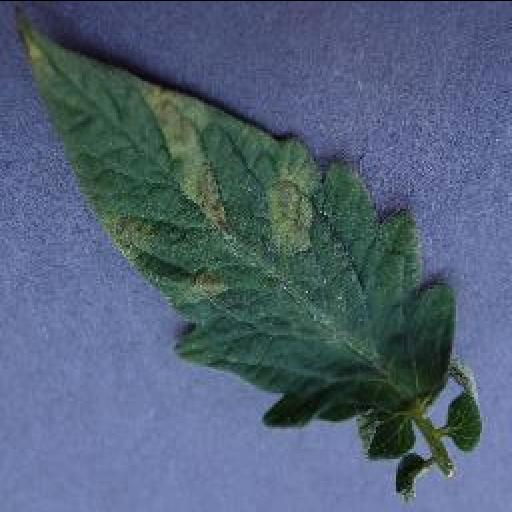disease_tomato: (16, 24, 460, 460)
